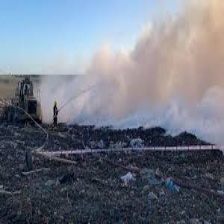smoke: (38, 1, 221, 127)
